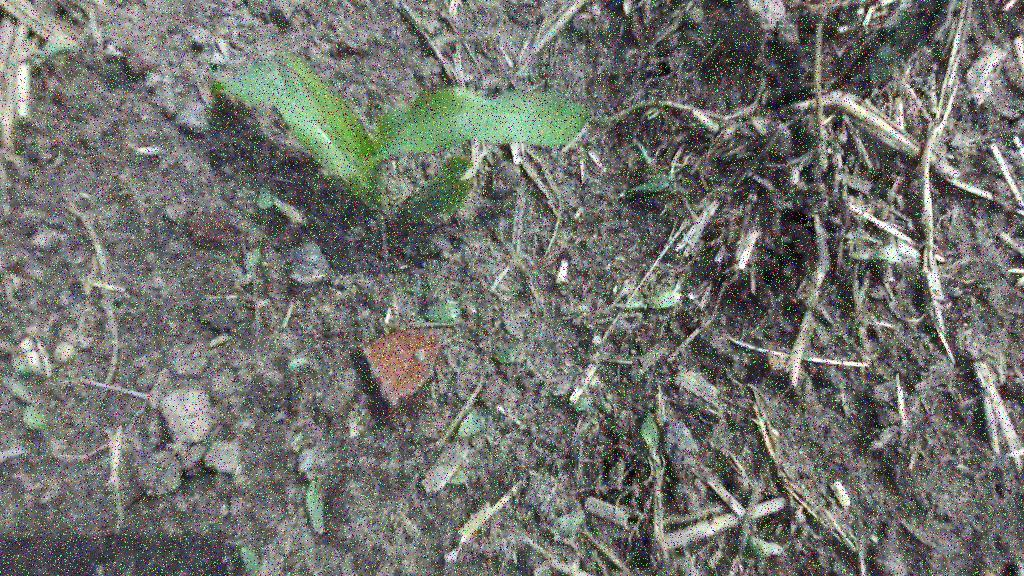BroWeed: (861, 5, 926, 91), (0, 365, 55, 435), (249, 181, 312, 238), (847, 230, 907, 282), (220, 527, 270, 576), (632, 408, 672, 465), (544, 499, 593, 545), (630, 138, 671, 192), (452, 398, 496, 447), (0, 335, 37, 382), (302, 471, 328, 537), (742, 534, 791, 568), (17, 334, 46, 379), (448, 464, 483, 497), (423, 297, 463, 325), (33, 336, 58, 379), (239, 246, 262, 288), (567, 394, 598, 417), (29, 42, 72, 58), (493, 346, 526, 366), (285, 352, 311, 376), (979, 567, 1003, 576), (757, 558, 766, 576)
Maize: (193, 27, 593, 253)
